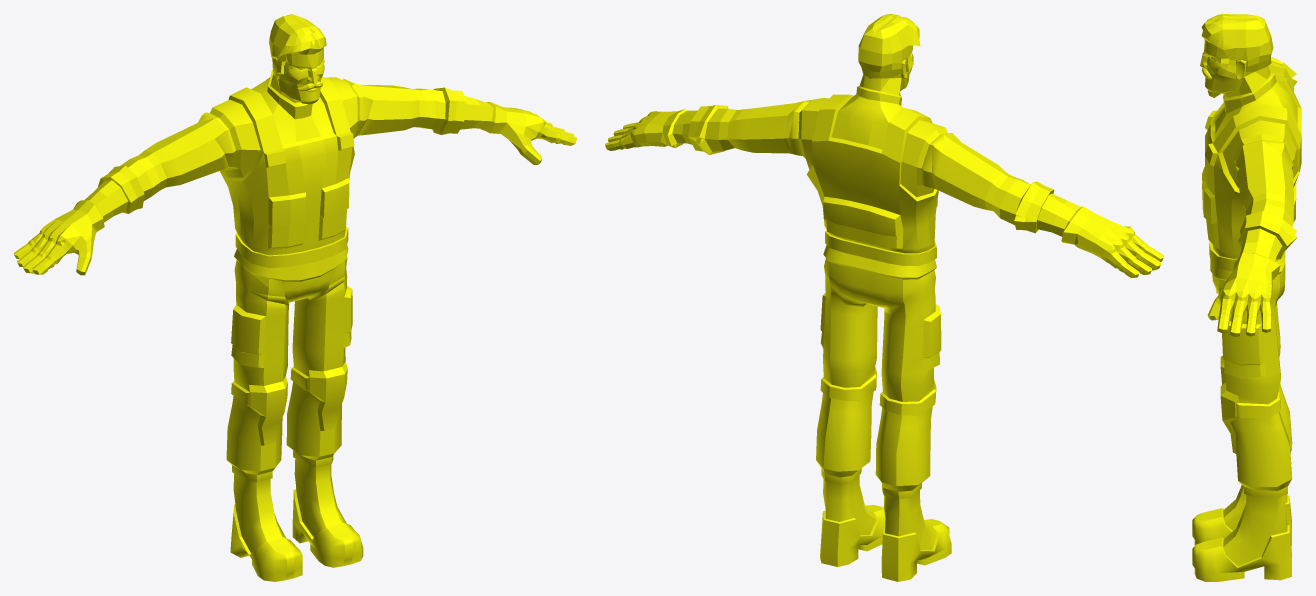
File: Standard.obj
3 renders of one model, left to right at view 1: azimuth 30°, elevation 25°; view 2: azimuth 150°, elevation 25°; view 3: azimuth 270°, elevation 25°, orthographic.
Parts seen in each view (by area): view 1: initialShadingGroup Standard, Standard; view 2: initialShadingGroup Standard, Standard; view 3: initialShadingGroup Standard, Standard.
Boxes of the visible parts, bbox=[...] form: initialShadingGroup Standard: bbox=[120, 77, 445, 581]; Standard: bbox=[14, 14, 576, 275]; initialShadingGroup Standard: bbox=[704, 94, 1030, 581]; Standard: bbox=[605, 14, 1163, 277]; initialShadingGroup Standard: bbox=[1192, 60, 1301, 581]; Standard: bbox=[1200, 14, 1297, 336].
Size of the model in its own units: 211 by 196 by 35.95.
